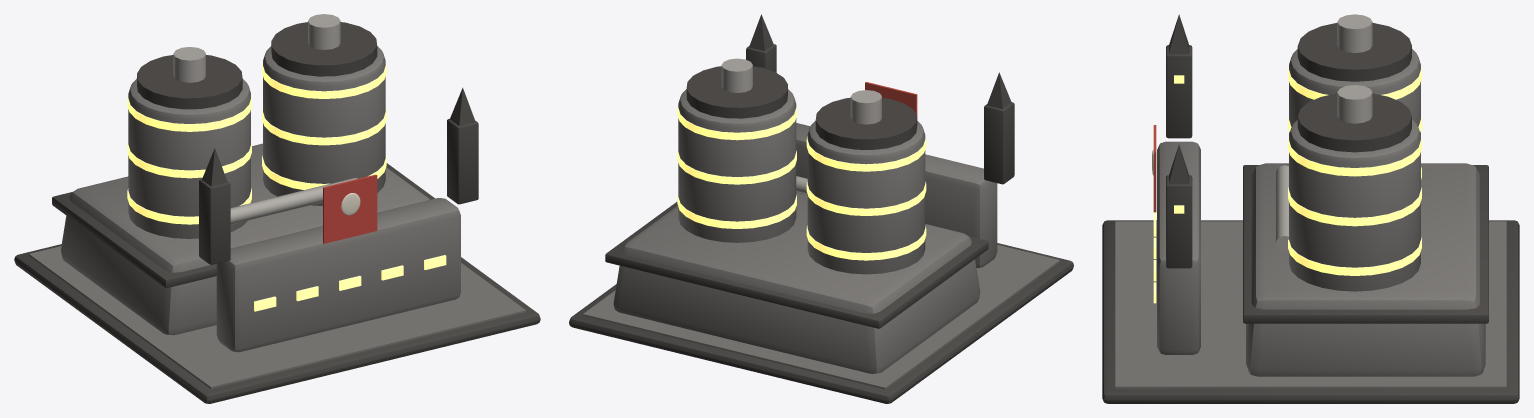
File: power_hum.glb
The picture shows the model from 3 angles, left to right: view 1: azimuth 30°, elevation 25°; view 2: azimuth 150°, elevation 25°; view 3: azimuth 270°, elevation 25°; orthographic projection. The views are drawn at different scales.
Visible parts, largest first — view 1: power_hum; view 2: power_hum; view 3: power_hum.
Boxes of the visible parts, x1,y1,x2,y2 form: power_hum: (14, 14, 540, 403); power_hum: (569, 14, 1073, 403); power_hum: (1102, 14, 1519, 403).
Size of the model in its own units: 1.9 by 1.31 by 1.9.
